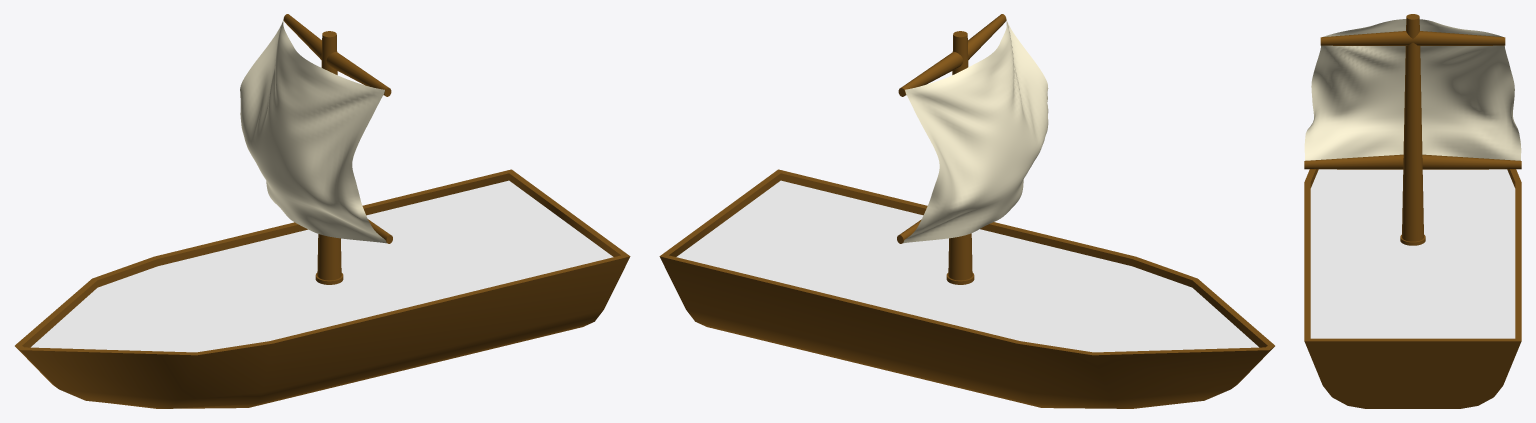
Rendered from TestBoat.glb.
3 renders of one model, left to right at view 1: azimuth 30°, elevation 25°; view 2: azimuth 150°, elevation 25°; view 3: azimuth 270°, elevation 25°, orthographic. The views are drawn at different scales.
Visible parts, largest first — view 1: Cube, Grid, Grid.001; view 2: Cube, Grid, Grid.001; view 3: Cube, Grid, Grid.001.
Part boxes in pixels (x1,y1,x2,y2): Cube: (15,169,630,408); Grid: (240,14,392,243); Grid.001: (315,31,343,284); Cube: (659,169,1274,408); Grid: (897,14,1048,243); Grid.001: (946,31,974,284); Cube: (1304,169,1521,408); Grid: (1304,19,1521,169); Grid.001: (1400,14,1425,245).
Size of the model in its own units: 13.45 by 7.52 by 5.
